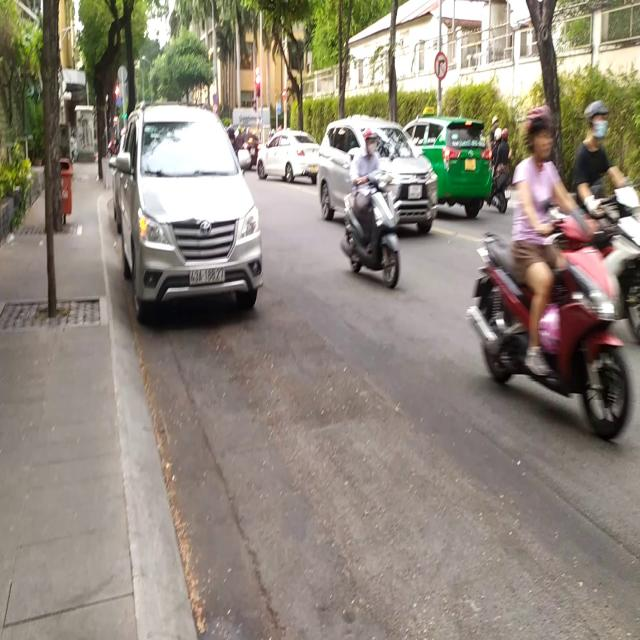bien_trang: (187, 264, 226, 286)
